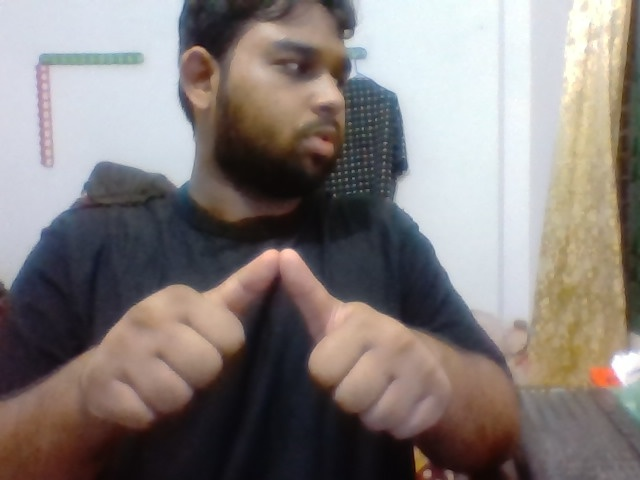A: (85, 241, 460, 459)
